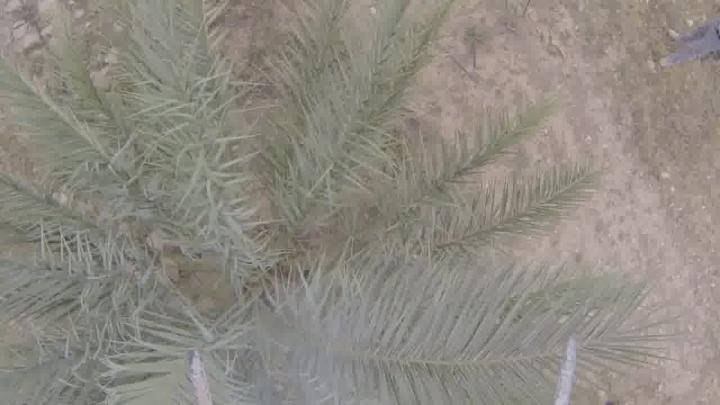Date-Palm-Crown: (50, 66, 438, 404)
